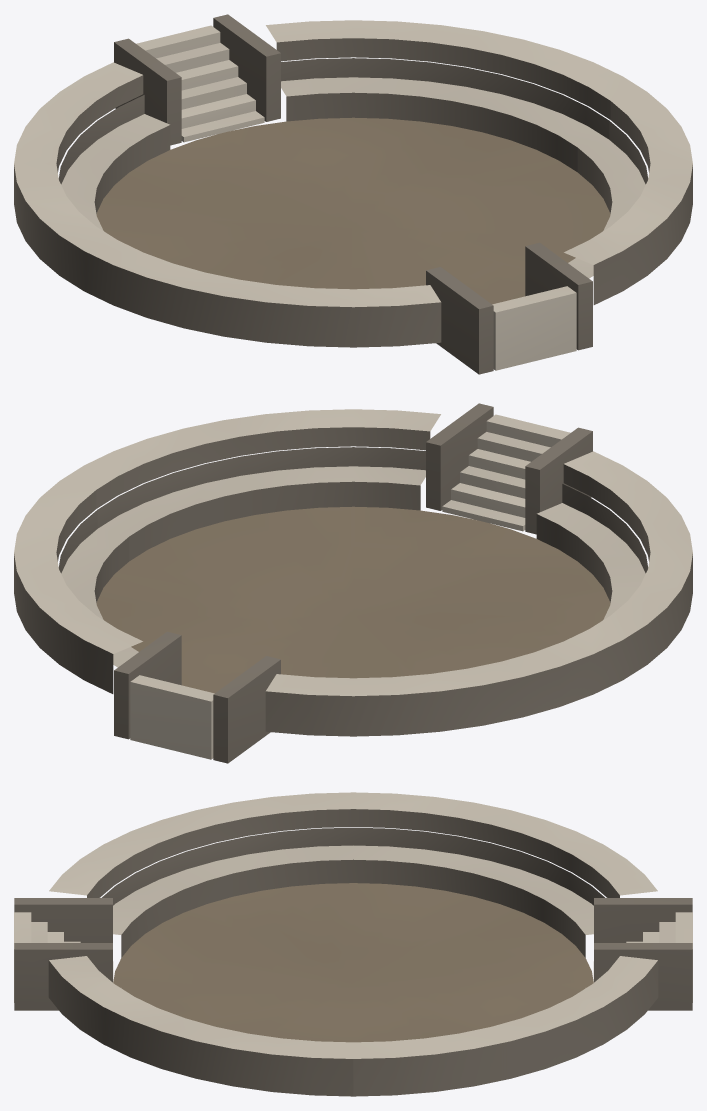
Rendered from caral_circular_plaza_lod0.glb.
The picture shows the model from 3 angles, top to bottom: view 1: azimuth 30°, elevation 25°; view 2: azimuth 150°, elevation 25°; view 3: azimuth 270°, elevation 25°; orthographic projection. The views are drawn at different scales.
Parts seen in each view (by area): view 1: GEO-Arch_circular_plaza_LOD0; view 2: GEO-Arch_circular_plaza_LOD0; view 3: GEO-Arch_circular_plaza_LOD0.
Part boxes in pixels (x1=…): GEO-Arch_circular_plaza_LOD0: x1=14, y1=14, x2=692, y2=374; GEO-Arch_circular_plaza_LOD0: x1=14, y1=403, x2=692, y2=763; GEO-Arch_circular_plaza_LOD0: x1=14, y1=792, x2=692, y2=1096.
Bounding box in the file's own units: 16 × 1.7 × 17.22.
